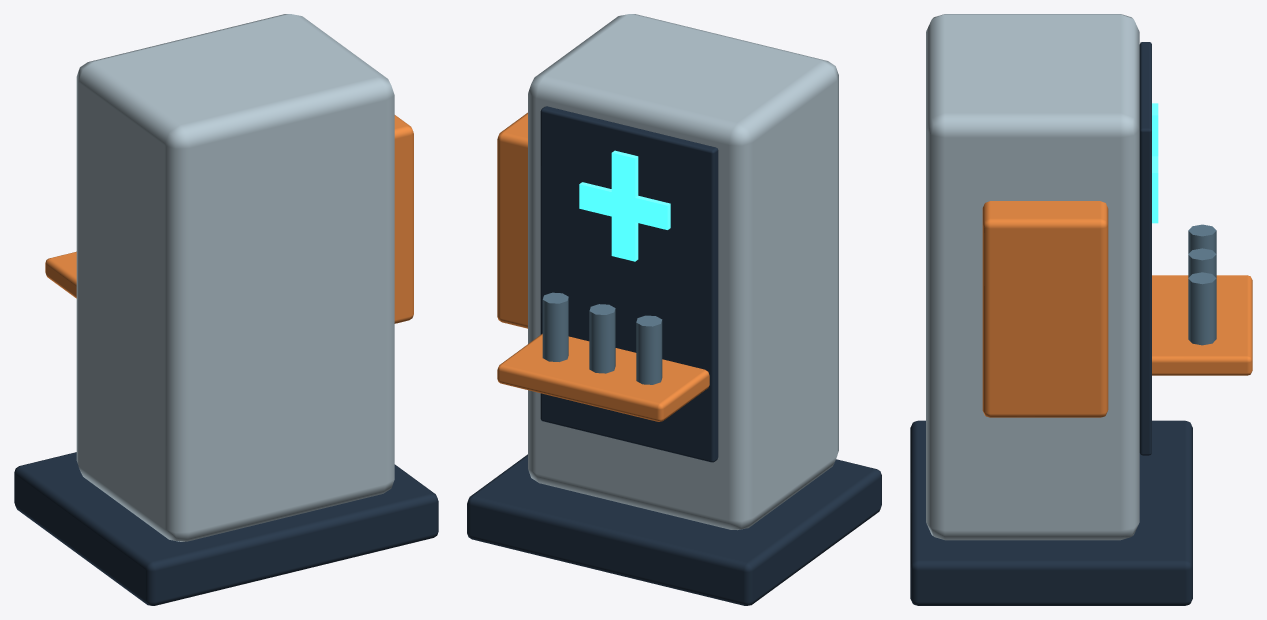
File: repair-station.glb
The picture shows the model from 3 angles, left to right: view 1: azimuth 30°, elevation 25°; view 2: azimuth 150°, elevation 25°; view 3: azimuth 270°, elevation 25°; orthographic projection. The views are drawn at different scales.
Parts seen in each view (by area): view 1: cabinet, base, side-pack, tray; view 2: cabinet, face, base, tray, side-pack, cross-v, cross-h, tool-0, tool--0.18, tool-0.18; view 3: cabinet, side-pack, base, tray, face, tool-0.18, tool-0, tool--0.18, cross-v.
Boxes of the visible parts, box(x1,y1,x2,y2) form: cabinet: box(76, 14, 394, 541); base: box(14, 452, 438, 605); side-pack: box(394, 115, 413, 323); tray: box(45, 251, 76, 298); cabinet: box(528, 14, 838, 529); face: box(540, 106, 718, 462); base: box(467, 454, 881, 605); tray: box(497, 333, 709, 421); side-pack: box(497, 112, 527, 328); cross-v: box(611, 150, 638, 261); cross-h: box(579, 182, 670, 229); tool-0: box(589, 304, 615, 373); tool--0.18: box(636, 315, 662, 384); tool-0.18: box(542, 292, 568, 361); cabinet: box(926, 14, 1139, 540); side-pack: box(982, 201, 1108, 417); base: box(910, 420, 1192, 605); tray: box(1152, 275, 1252, 375); face: box(1139, 42, 1151, 455); tool-0.18: box(1188, 272, 1216, 345); tool-0: box(1188, 248, 1216, 277); tool--0.18: box(1188, 224, 1216, 253); cross-v: box(1152, 103, 1158, 223).
Bounding box in the file's own units: 1.14 × 1.66 × 1.09.
